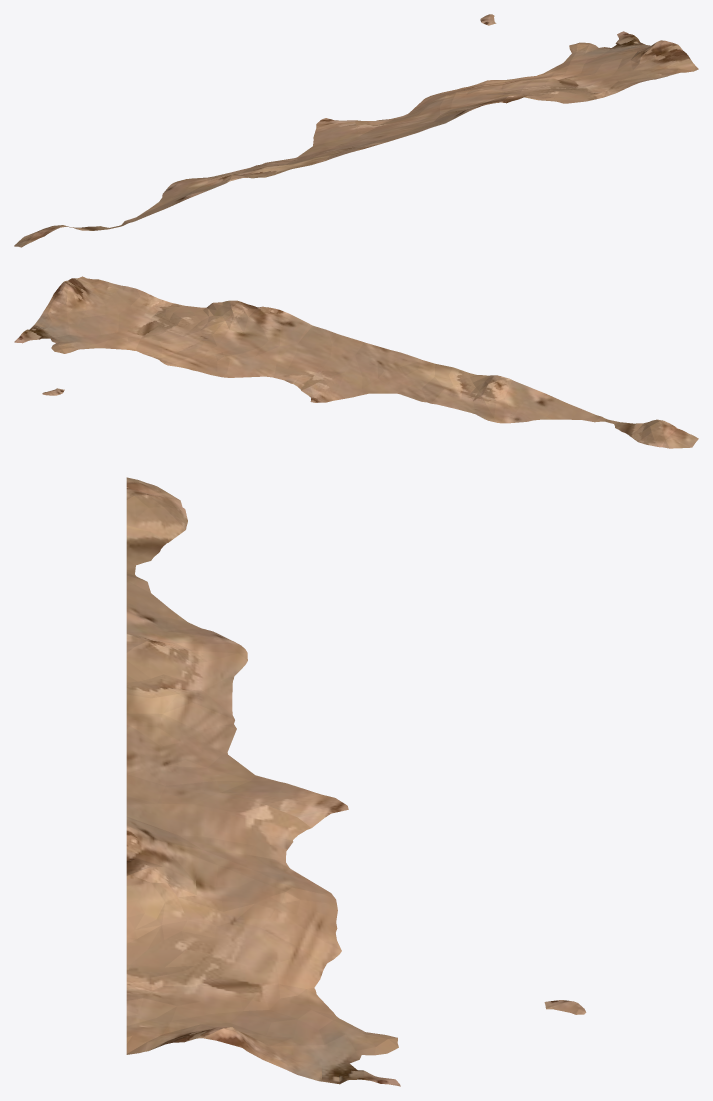
3 renders of one model, top to bottom at view 1: azimuth 30°, elevation 25°; view 2: azimuth 150°, elevation 25°; view 3: azimuth 270°, elevation 25°, orthographic. The views are drawn at different scales.
Bounding box in the file's own units: 1.04 × 0.0495 × 0.3374.
Materials: 1 (1 with a texture image).
